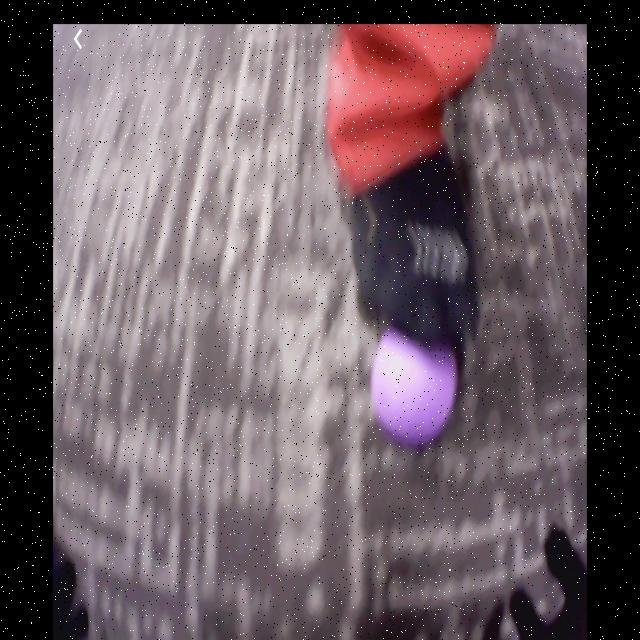ball: (374, 330, 459, 449)
